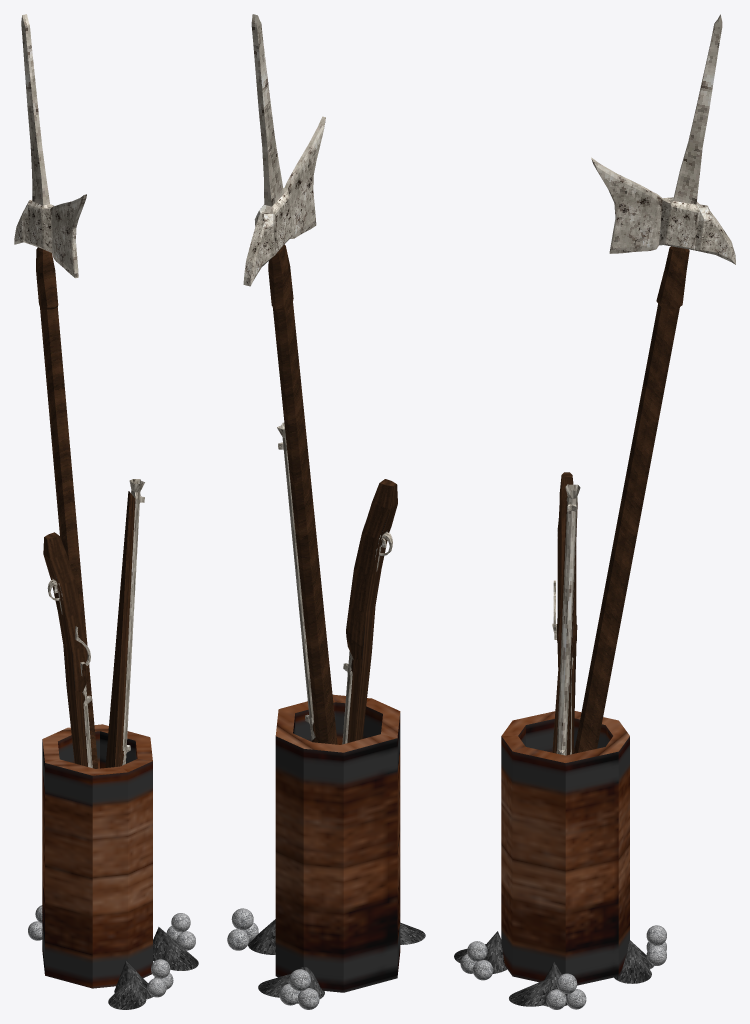
File: WeaponBarrel.fbx
3 renders of one model, left to right at view 1: azimuth 30°, elevation 25°; view 2: azimuth 150°, elevation 25°; view 3: azimuth 270°, elevation 25°, orthographic. The views are drawn at different scales.
Visible parts, largest first — view 1: Cube; view 2: Cube; view 3: Cube.
Boxes of the visible parts, x1,y1,x2,y2 form: Cube: (14,14,198,1009); Cube: (227,14,425,1009); Cube: (454,14,735,1009).
Size of the model in its own units: 276 by 1631 by 438.
14 materials, 14 textured.
